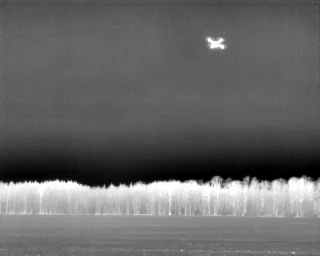DRONE: (203, 32, 231, 55)
